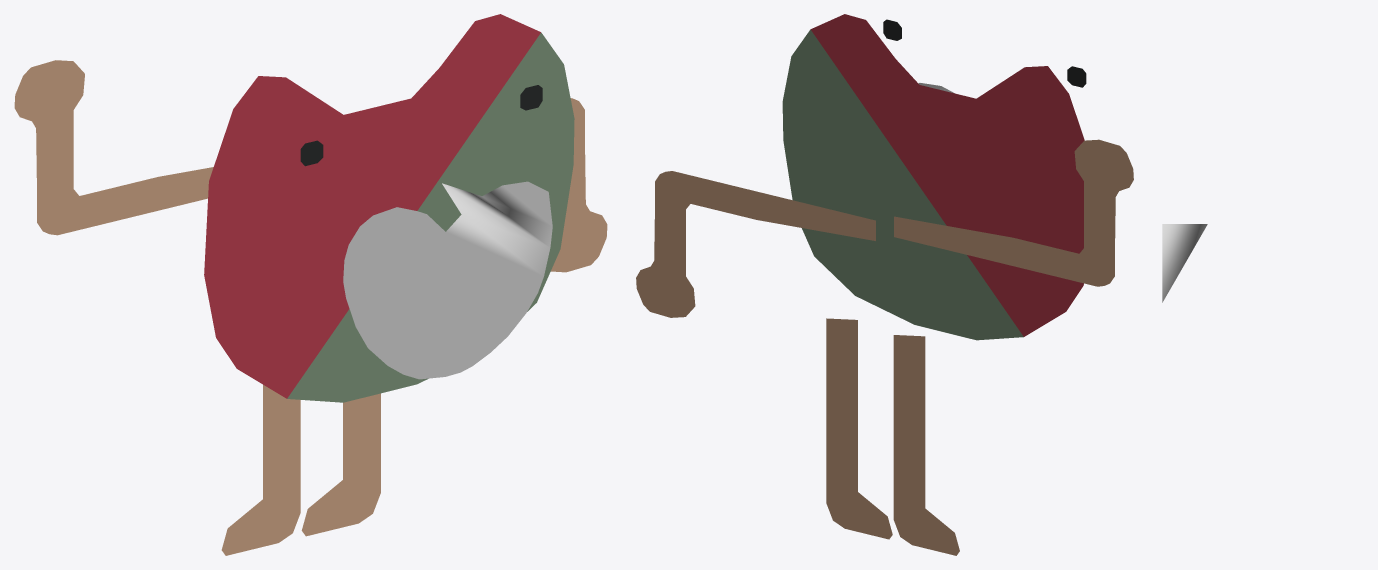
File: file_haha_c.fbx
The picture shows the model from 3 angles, left to right: view 1: azimuth 30°, elevation 25°; view 2: azimuth 150°, elevation 25°; view 3: azimuth 270°, elevation 25°; orthographic projection. The views are drawn at different scales.
Parts seen in each view (by area): view 1: file_haha_c1; view 2: file_haha_c1; view 3: file_haha_c1.
Part boxes in pixels (bbox=[...]): file_haha_c1: bbox=[14, 14, 607, 555]; file_haha_c1: bbox=[636, 14, 1133, 555]; file_haha_c1: bbox=[1162, 224, 1207, 302].
Bounding box in the file's own units: 2.01 × 1.76 × 0.7588.
